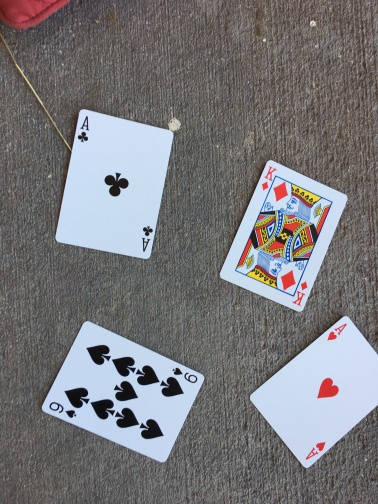ace: (252, 313, 378, 471), (55, 109, 174, 257)
king: (218, 158, 349, 313)
nine: (39, 319, 205, 464)
